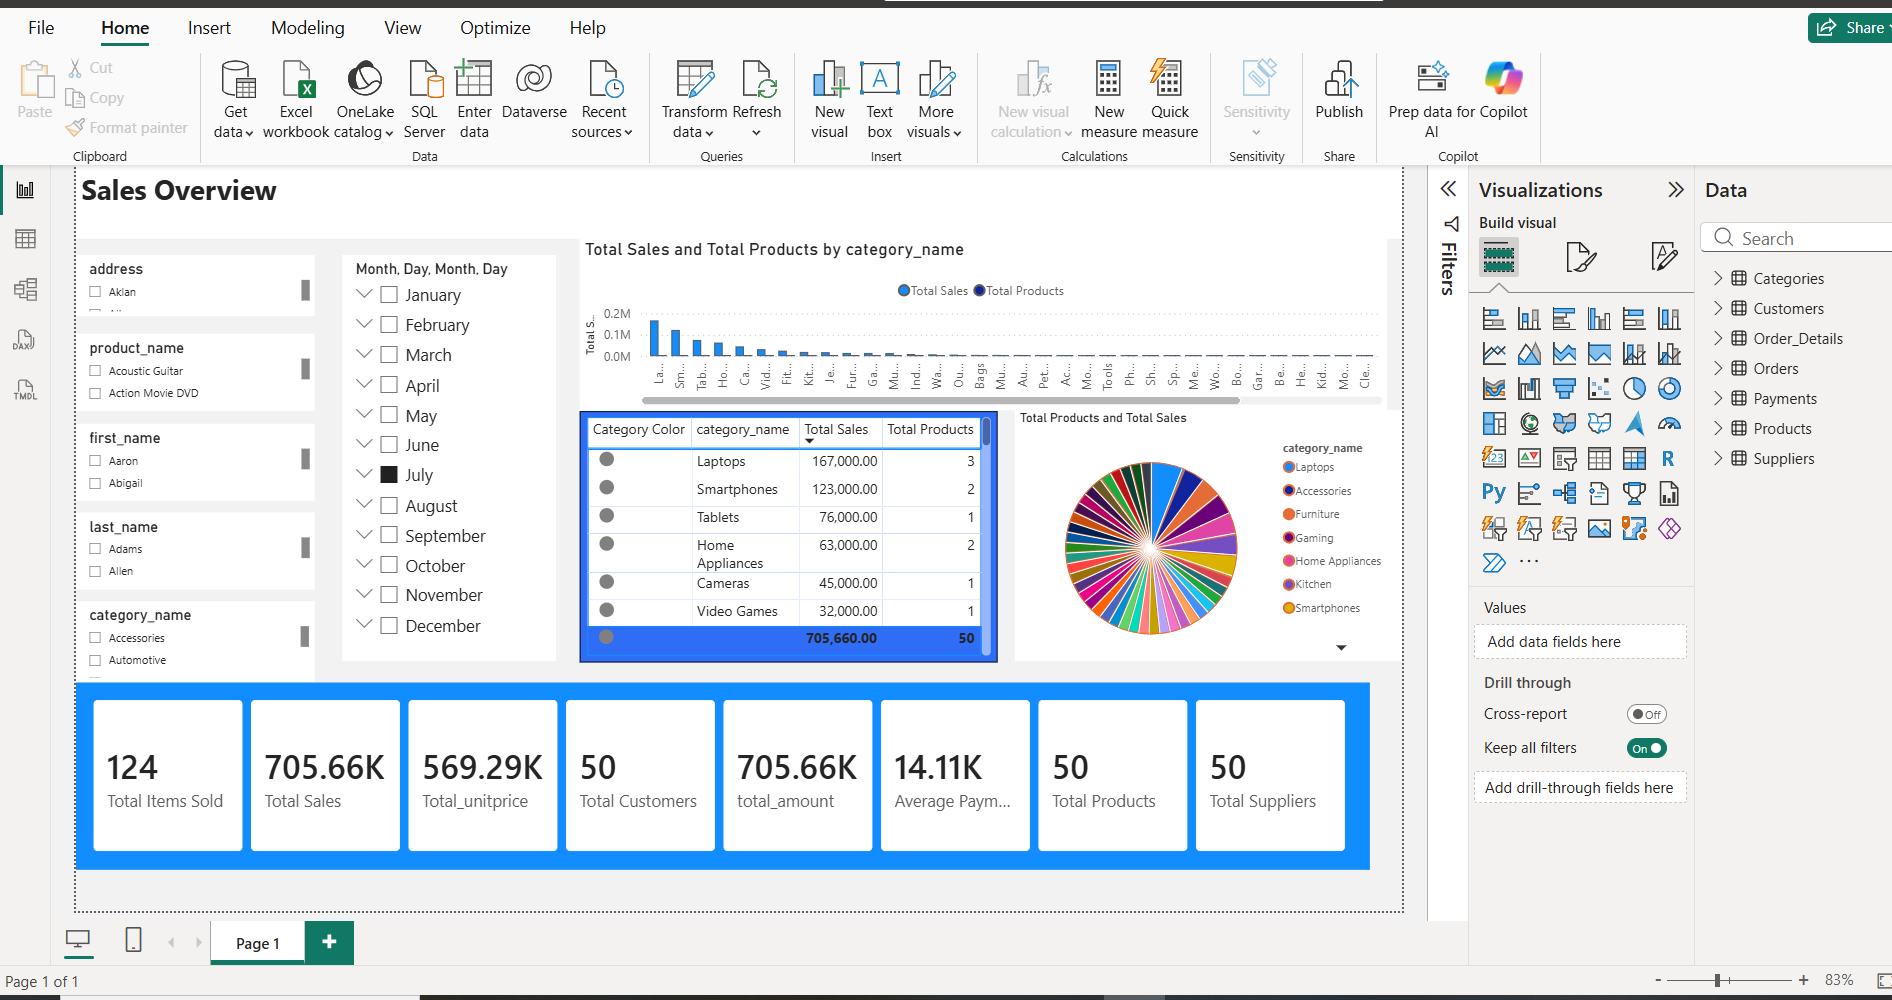

What the dashboard file says about the page in this screenshot:
{"tool":"powerbi","page":{"name":"Page 1","canvas":[1280,720],"ordinal":0},"visuals":[{"type":"textbox","box":[0,0,1280,71.2],"z":0},{"type":"slicer","fields":{"Values":["Customers.address"]},"box":[0,86.9,230.4,59.1],"z":1000},{"type":"slicer","fields":{"Values":["Products.product_name"]},"box":[0,163.3,230.5,74.1],"z":2000},{"type":"slicer","fields":{"Values":["Customers.first_name"]},"box":[0,249.7,230.5,74.1],"z":3000},{"type":"slicer","fields":{"Values":["Categories.category_name"]},"box":[0,421,230.1,78.6],"z":4000},{"type":"slicer","fields":{"Values":["Orders.order_date.Variation.Date Hierarchy.Month","Orders.order_date.Variation.Date Hierarchy.Day","Payments.payment_date.Variation.Date Hierarchy.Month","Payments.payment_date.Variation.Date Hierarchy.Day"]},"box":[257,86.9,206.3,392.1],"z":5000},{"type":"cardVisual","fields":{"Data":["Order_Details.Total Items Sold","Order_Details.Total Sales","Order_Details.Total_unitprice","Customers.Total Customers","Payments.total_amount","Payments.Average Payment","Products.Total Products","Suppliers.Total Suppliers"]},"box":[0,498.9,1248.6,180.5],"z":6000},{"type":"pieChart","title":"Total Products and Total Sales ","fields":{"Y":["Products.Total Products","Products.Total Sales %"],"Category":["Categories.category_name"]},"box":[906,236.5,374,242.5],"z":7000},{"type":"tableEx","fields":{"Values":["Categories.Category Color","Categories.category_name","Order_Details.Total Sales","Products.Total Products"]},"box":[486.2,236.5,403,242.5],"z":8000},{"type":"lineClusteredColumnComboChart","fields":{"Y":["Order_Details.Total Sales","Products.Total Products"],"Category":["Categories.category_name"]},"box":[486.2,71.2,779.4,165.3],"z":9000},{"type":"slicer","fields":{"Values":["Customers.last_name"]},"box":[0,335.4,230.5,74.1],"z":10000}]}

Visuals, with their boxes on the page's 1280x720 design canvas (x1, y1, x2, y2). These are canvas units, not pixel positions in the 1892x1000 screenshot, which may show the page scaled, cropped or inside an application window:
textbox: [x1=0, y1=0, x2=1280, y2=71]
slicer - Customers.address: [x1=0, y1=87, x2=230, y2=146]
slicer - Products.product_name: [x1=0, y1=163, x2=230, y2=237]
slicer - Customers.first_name: [x1=0, y1=250, x2=230, y2=324]
slicer - Categories.category_name: [x1=0, y1=421, x2=230, y2=500]
slicer - Orders.order_date.Variation.Date Hierarchy.Month x Orders.order_date.Variation.Date Hierarchy.Day: [x1=257, y1=87, x2=463, y2=479]
cardVisual - Order_Details.Total Items Sold x Order_Details.Total Sales: [x1=0, y1=499, x2=1249, y2=679]
"Total Products and Total Sales " pieChart: [x1=906, y1=236, x2=1280, y2=479]
tableEx - Categories.Category Color x Categories.category_name: [x1=486, y1=236, x2=889, y2=479]
lineClusteredColumnComboChart - Order_Details.Total Sales x Products.Total Products: [x1=486, y1=71, x2=1266, y2=236]
slicer - Customers.last_name: [x1=0, y1=335, x2=230, y2=410]
